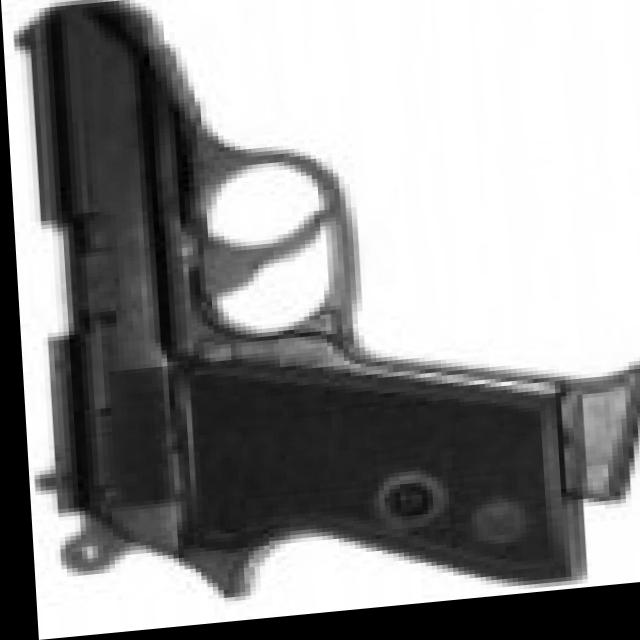handgun: (2, 0, 599, 612)
